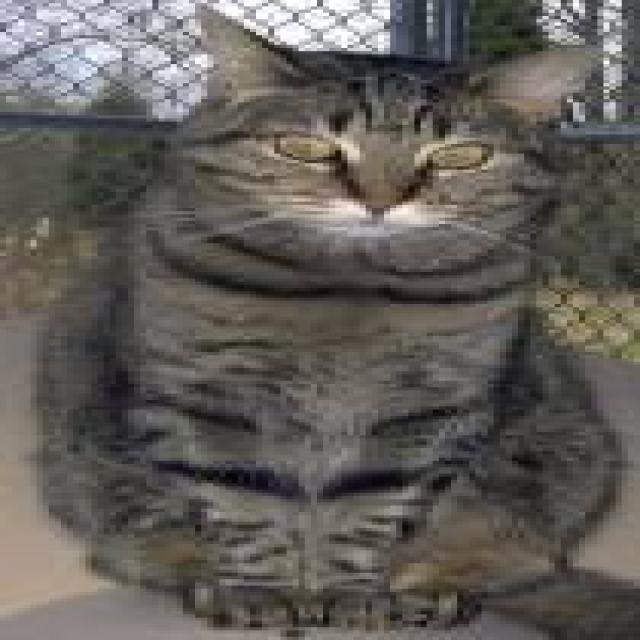cat: (30, 0, 634, 637)
